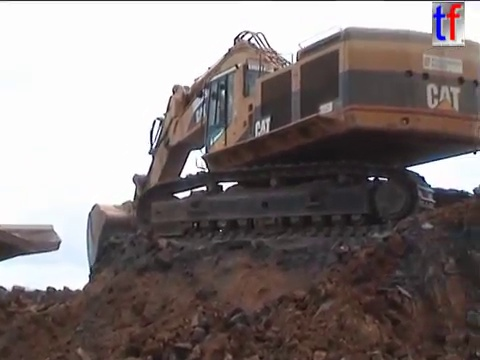excavator: (82, 21, 480, 281)
truck: (1, 222, 64, 264)
